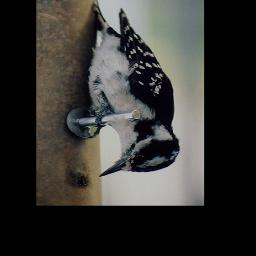Woodpecker: (81, 0, 181, 177)
